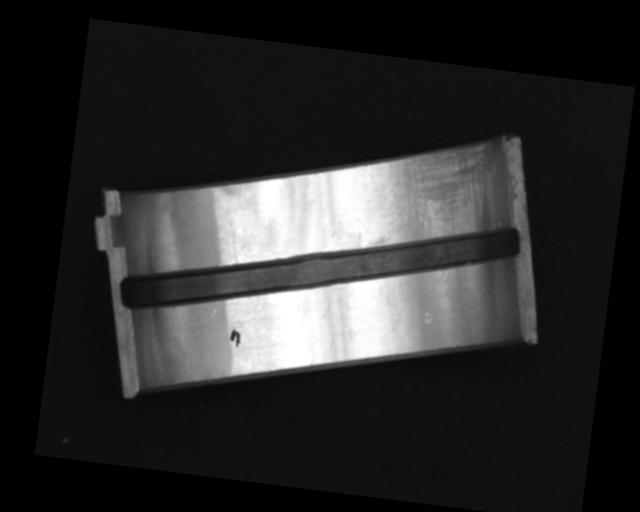blot: (226, 328, 243, 350)
bruise: (421, 310, 432, 324)
gap: (117, 182, 520, 356)
nick: (223, 221, 241, 266)
scratch: (366, 128, 499, 261)
